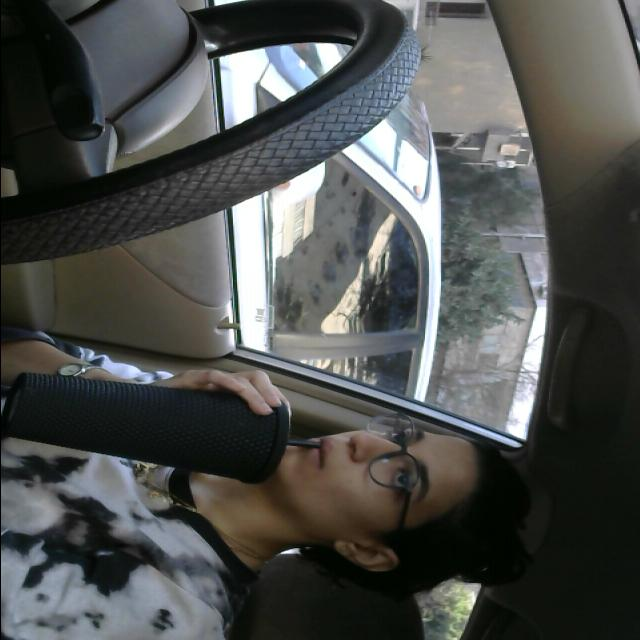drinking: (0, 369, 303, 499)
